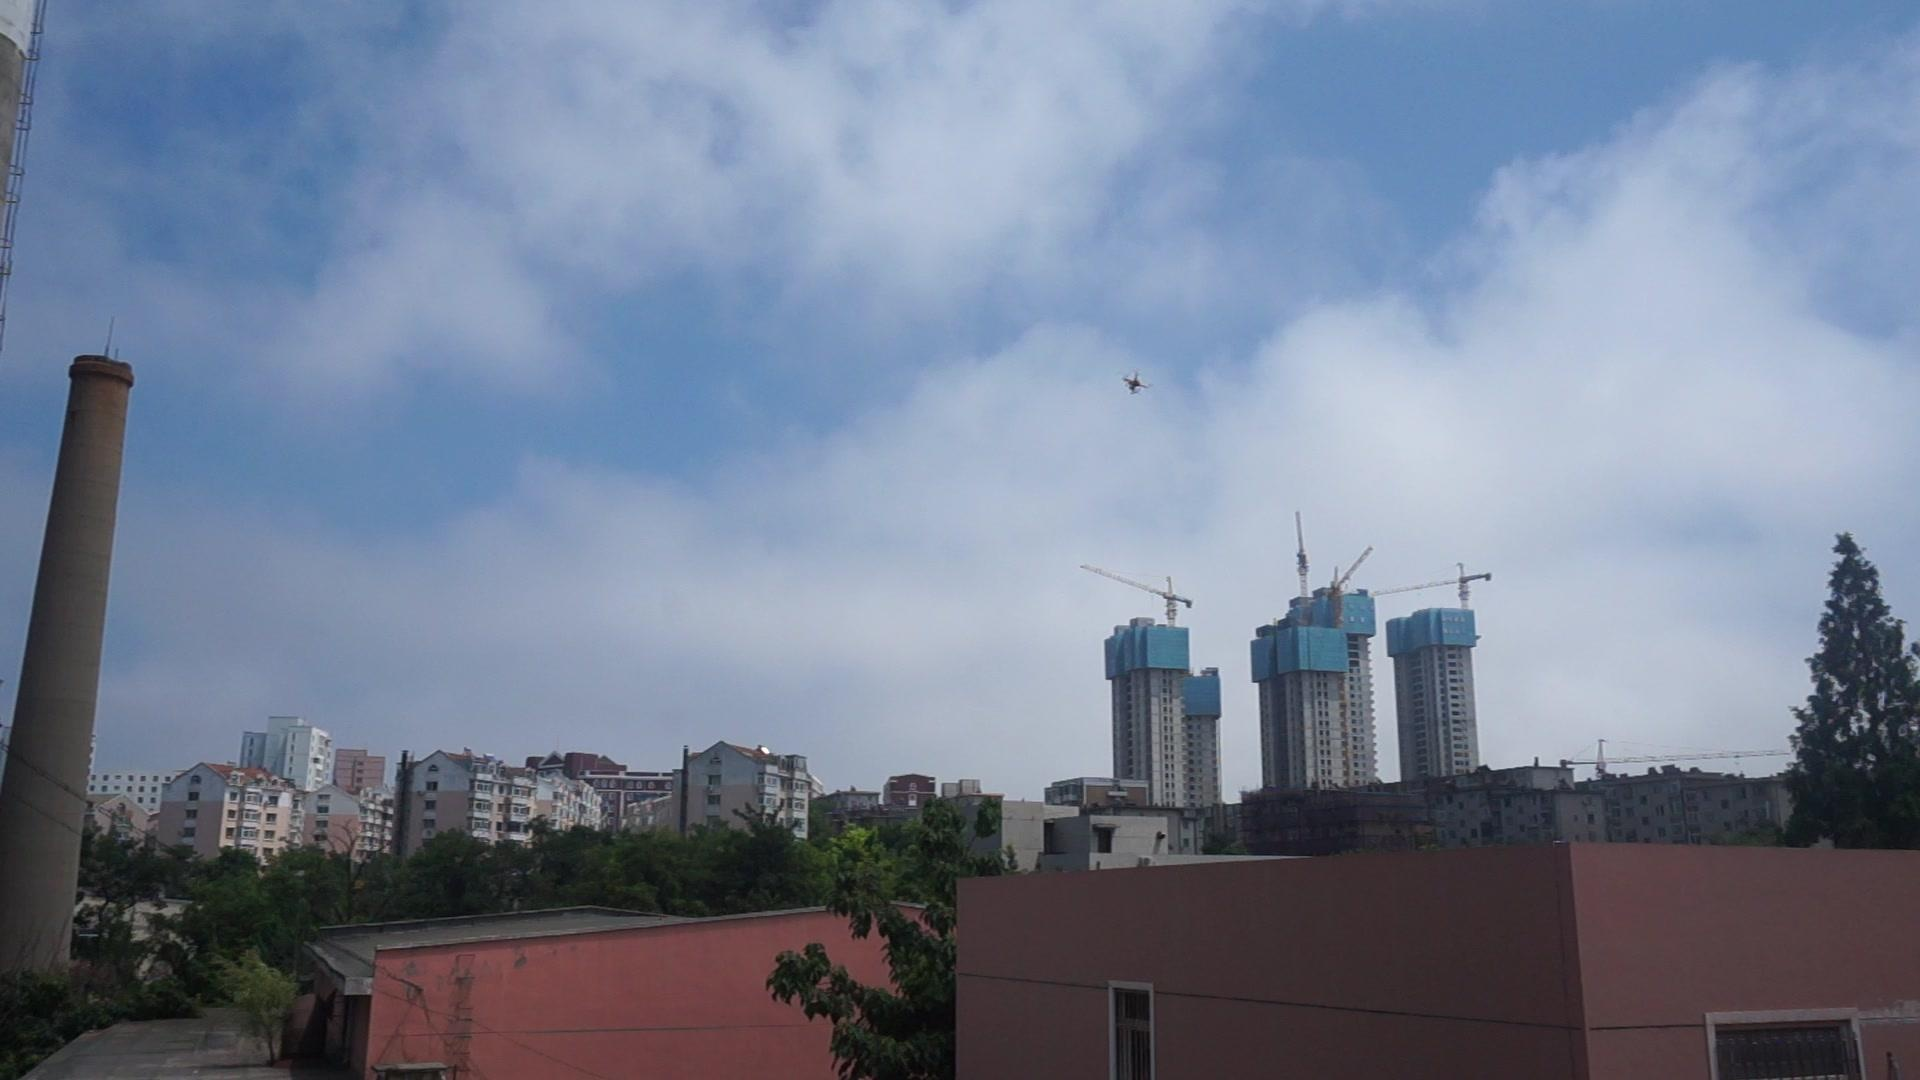UAV: (1122, 368, 1155, 396)
